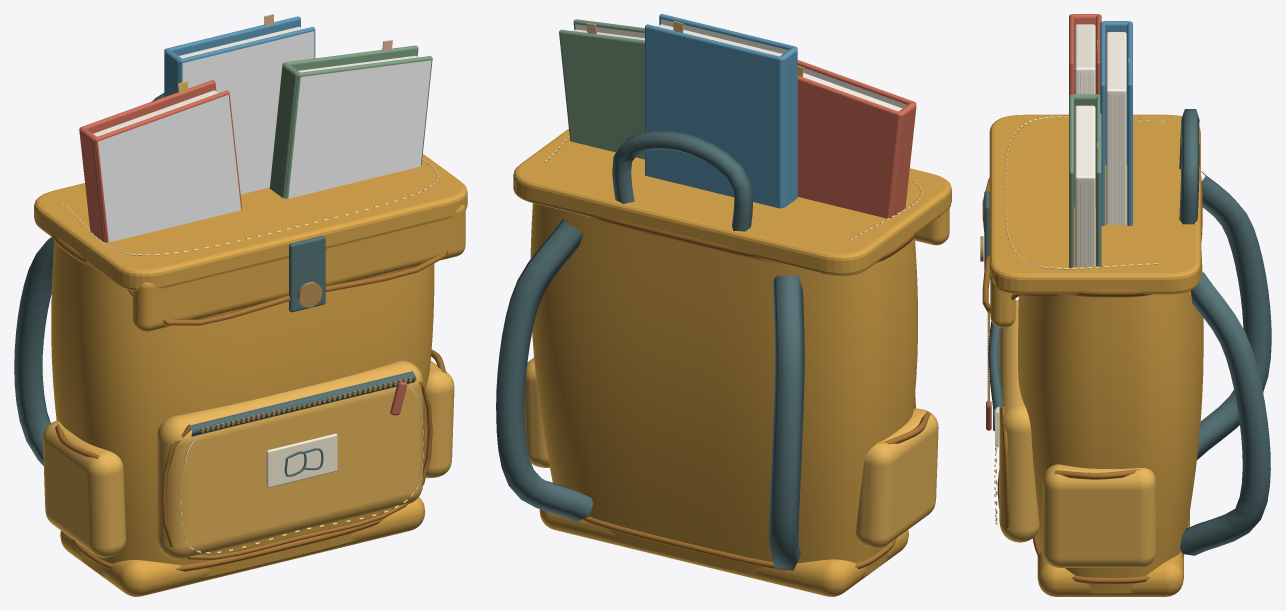
Rendered from schoolbag-v2.glb.
3 views of the same model, side by side, from view 1: azimuth 30°, elevation 25°; view 2: azimuth 150°, elevation 25°; view 3: azimuth 270°, elevation 25° (orthographic). The views are drawn at different scales.
Parts seen in each view (by area): view 1: FabricBody, FrontPocket, FlapOuter, CoverArt_english, CoverArt_chinese, FlapApron, CoverArt_math, SidePocket-1, RearStrap-1, SoftBase, SidePocket1, FrontLabel (+17 smaller); view 2: FabricBody, FlapOuter, BackCover_1, BackCover_0, RearStrap1, BackCover_2, RearStrap-1, SidePocket-1, SoftBase, CarryHandle, Spine_1, BaseBinding (+8 smaller); view 3: FabricBody, FlapOuter, SidePocket1, RearStrap1, RearStrap-1, FrontPocket, Pages_1, Pages_2, SoftBase, CarryHandle, Pages_0, BackCover_1 (+18 smaller).
Boxes of the visible parts, bbox=[...] form: FabricBody: bbox=[51, 241, 434, 577]; FrontPocket: bbox=[157, 360, 423, 559]; FlapOuter: bbox=[34, 154, 467, 291]; CoverArt_english: bbox=[288, 60, 431, 198]; CoverArt_chinese: bbox=[98, 94, 240, 242]; FlapApron: bbox=[132, 205, 465, 331]; CoverArt_math: bbox=[182, 31, 314, 194]; SidePocket-1: bbox=[43, 420, 125, 557]; RearStrap-1: bbox=[14, 237, 54, 465]; SoftBase: bbox=[60, 497, 425, 596]; SidePocket1: bbox=[423, 360, 454, 478]; FrontLabel: bbox=[266, 433, 337, 487]; FabricBody: bbox=[530, 203, 917, 576]; FlapOuter: bbox=[513, 129, 951, 275]; BackCover_1: bbox=[645, 24, 782, 208]; BackCover_0: bbox=[797, 75, 901, 218]; RearStrap1: bbox=[496, 219, 593, 521]; BackCover_2: bbox=[559, 29, 644, 159]; RearStrap-1: bbox=[769, 275, 804, 570]; SidePocket-1: bbox=[856, 408, 938, 548]; SoftBase: bbox=[539, 509, 908, 596]; CarryHandle: bbox=[612, 130, 753, 231]; Spine_1: bbox=[780, 47, 797, 207]; BaseBinding: bbox=[583, 516, 896, 570]; FabricBody: bbox=[1018, 245, 1203, 593]; FlapOuter: bbox=[989, 114, 1200, 294]; SidePocket1: bbox=[1042, 464, 1156, 567]; RearStrap1: bbox=[1180, 272, 1270, 555]; RearStrap-1: bbox=[1197, 171, 1271, 459]; FrontPocket: bbox=[999, 300, 1039, 542]; Pages_1: bbox=[1106, 32, 1126, 224]; Pages_2: bbox=[1075, 105, 1095, 266]; SoftBase: bbox=[1037, 552, 1183, 596]; CarryHandle: bbox=[1179, 109, 1199, 224]; Pages_0: bbox=[1075, 24, 1095, 94]; BackCover_1: bbox=[1127, 21, 1132, 225].
Size of the model in its own units: 2.91 by 3.81 by 2.05.
